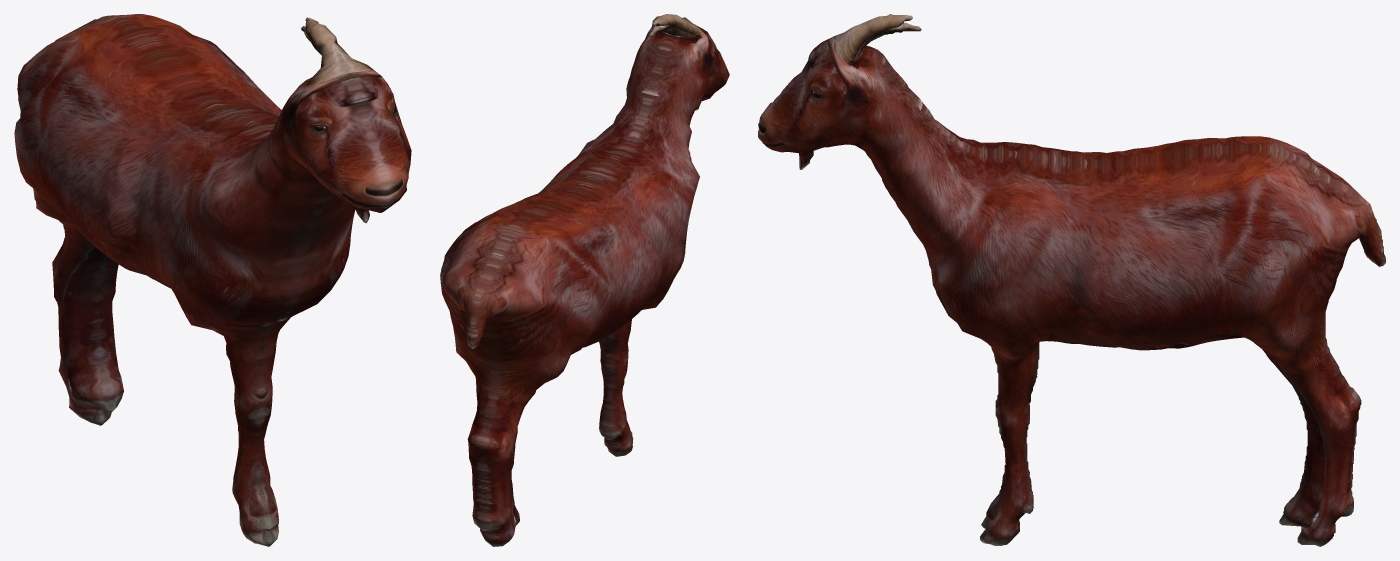
File: chevre.glb
The picture shows the model from 3 angles, left to right: view 1: azimuth 30°, elevation 25°; view 2: azimuth 150°, elevation 25°; view 3: azimuth 270°, elevation 25°; orthographic projection. The views are drawn at different scales.
Parts seen in each view (by area): view 1: chevre; view 2: chevre; view 3: chevre.
Boxes of the visible parts, bbox=[...] form: chevre: bbox=[14, 14, 411, 546]; chevre: bbox=[440, 14, 729, 546]; chevre: bbox=[758, 14, 1385, 546].
Size of the model in its own units: 0.2929 by 0.75 by 0.8048.
1 material, 1 textured.
